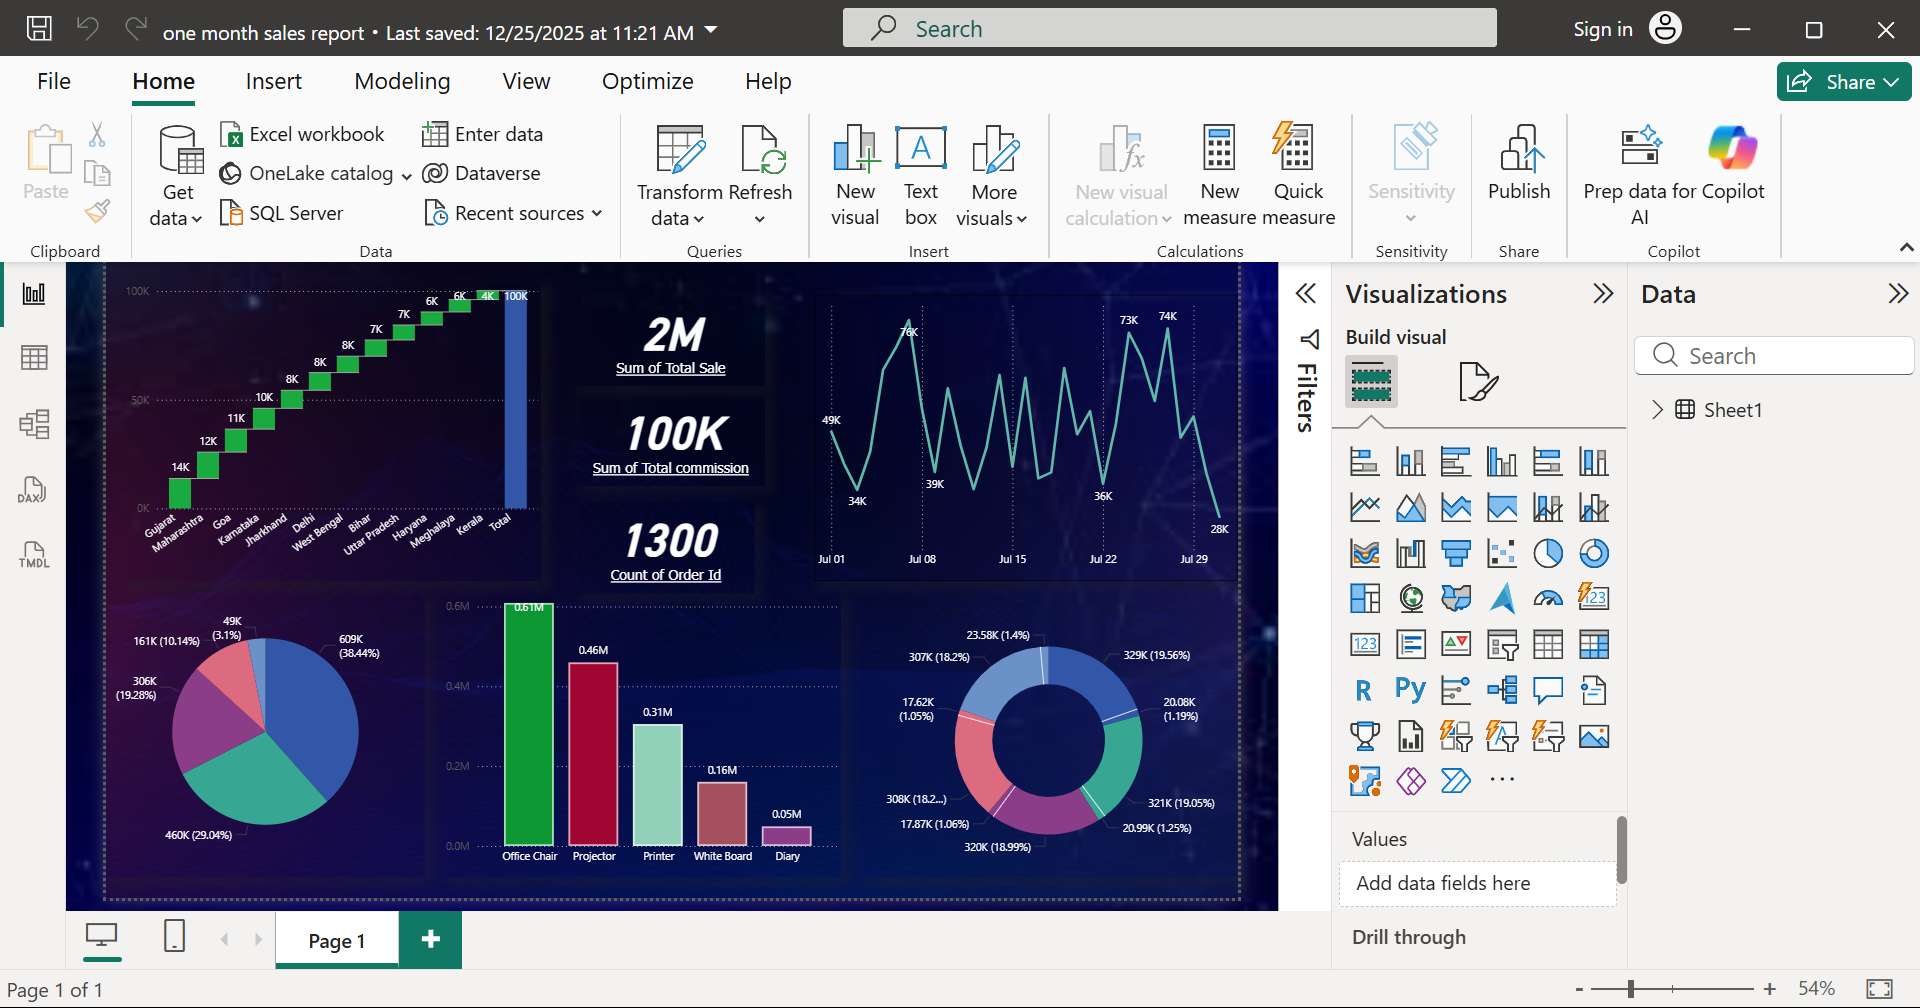

This screenshot's page, from the dashboard's own definition file:
{"tool":"powerbi","page":{"name":"Page 1","canvas":[1280,720],"ordinal":0},"visuals":[{"type":"lineChart","fields":{"Y":["Sum(Sheet1.Total Sale)"],"Category":["Sheet1.Order date.Variation.Date Hierarchy.Year","Sheet1.Order date.Variation.Date Hierarchy.Month","Sheet1.Order date.Variation.Date Hierarchy.Day"]},"box":[800.4,37,478.8,323.5],"z":0},{"type":"clusteredColumnChart","fields":{"Y":["Sum(Sheet1.Total Sale)"],"Category":["Sheet1.Product Name"]},"box":[380.8,375.3,451.1,319.8],"z":1000},{"type":"donutChart","fields":{"Category":["Sheet1.Sales Representative"],"Y":["Sum(Sheet1.Total Sale)","Sum(Sheet1.Total commission)"]},"box":[852.2,395.6,427,299.5],"z":2000},{"type":"pieChart","fields":{"Category":["Sheet1.Product Name"],"Y":["Sum(Sheet1.Total Sale)"]},"box":[0,375.3,360.5,319.8],"z":3000},{"type":"waterfallChart","fields":{"Category":["Sheet1.state"],"Y":["Sum(Sheet1.Total commission)"]},"box":[18.5,22.2,473.2,338.3],"z":4000},{"type":"card","fields":{"Values":["Count(Sheet1.Order Id)"]},"box":[532.4,269.9,201.5,105.4],"z":6000},{"type":"card","fields":{"Values":["Sum(Sheet1.Total Sale)"]},"box":[532.4,37,212.6,103.5],"z":7000},{"type":"card","fields":{"Values":["Sum(Sheet1.Total commission)"]},"box":[532.4,149.7,212.6,103.5],"z":8000}]}

Visuals, with their boxes on the page's 1280x720 design canvas (x1, y1, x2, y2). These are canvas units, not pixel positions in the 1920x1008 screenshot, which may show the page scaled, cropped or inside an application window:
lineChart - Sum(Sheet1.Total Sale) x Sheet1.Order date.Variation.Date Hierarchy.Year: {"left": 800, "top": 37, "right": 1279, "bottom": 360}
clusteredColumnChart - Sum(Sheet1.Total Sale) x Sheet1.Product Name: {"left": 381, "top": 375, "right": 832, "bottom": 695}
donutChart - Sheet1.Sales Representative x Sum(Sheet1.Total Sale): {"left": 852, "top": 396, "right": 1279, "bottom": 695}
pieChart - Sheet1.Product Name x Sum(Sheet1.Total Sale): {"left": 0, "top": 375, "right": 360, "bottom": 695}
waterfallChart - Sheet1.state x Sum(Sheet1.Total commission): {"left": 18, "top": 22, "right": 492, "bottom": 360}
card - Count(Sheet1.Order Id): {"left": 532, "top": 270, "right": 734, "bottom": 375}
card - Sum(Sheet1.Total Sale): {"left": 532, "top": 37, "right": 745, "bottom": 140}
card - Sum(Sheet1.Total commission): {"left": 532, "top": 150, "right": 745, "bottom": 253}
